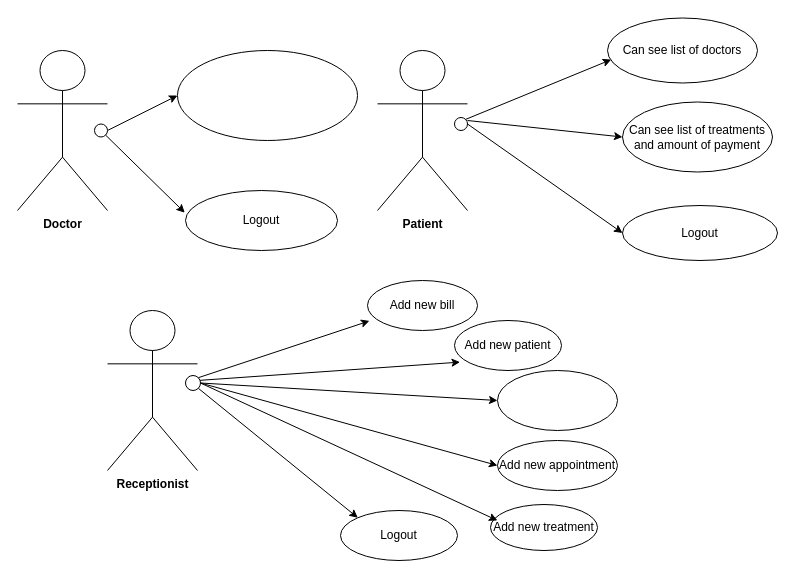
Some shapes in this 795 by 578 pixel diagram are drawn without their labels. Each missing label, with the centre of its shape:
"Can see all information about patient" belongs at (x=267, y=95).
"See list of doctors" belongs at (x=557, y=400).
